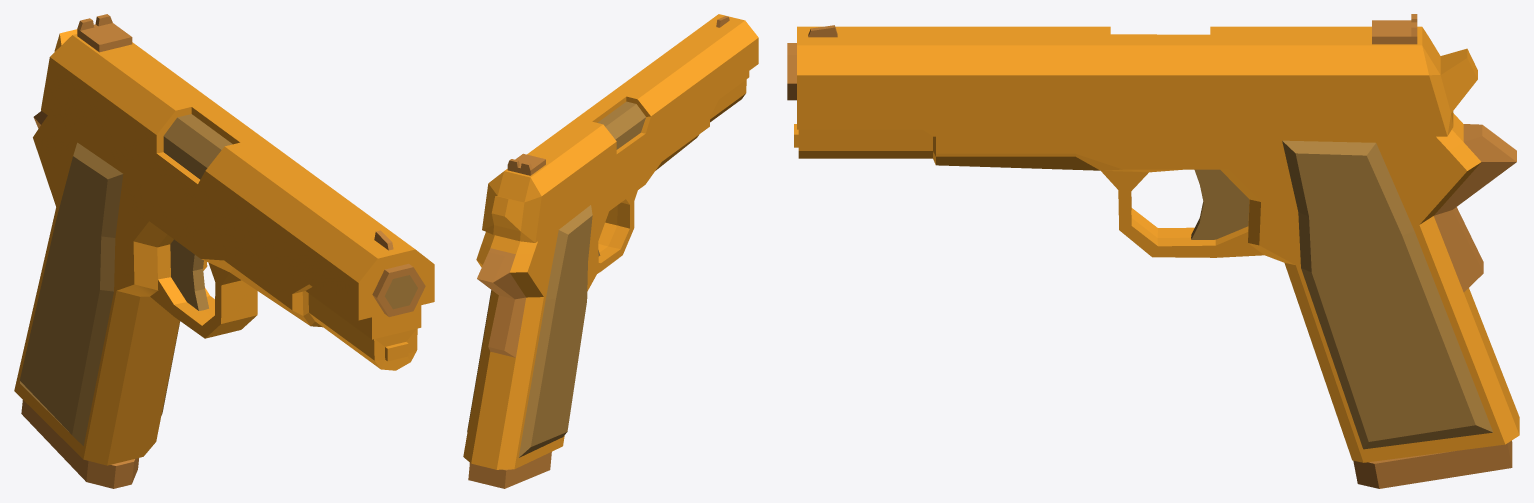
Rendered from SM_Prop_Pistol_01.fbx.
3 renders of one model, left to right at view 1: azimuth 30°, elevation 25°; view 2: azimuth 150°, elevation 25°; view 3: azimuth 270°, elevation 25°, orthographic. The views are drawn at different scales.
Parts seen in each view (by area): view 1: SM_Prop_Pistol_01, SM_Prop_Pistol_Slide_01, SM_Prop_Pistol_Mag_01, SM_Prop_Pistol_Trigger_01; view 2: SM_Prop_Pistol_01, SM_Prop_Pistol_Slide_01, SM_Prop_Pistol_Mag_01; view 3: SM_Prop_Pistol_01, SM_Prop_Pistol_Slide_01, SM_Prop_Pistol_Mag_01, SM_Prop_Pistol_Trigger_01.
Boxes of the visible parts, x1,y1,x2,y2 form: SM_Prop_Pistol_01: (14, 111, 425, 465); SM_Prop_Pistol_Slide_01: (41, 14, 434, 339); SM_Prop_Pistol_Mag_01: (21, 400, 138, 488); SM_Prop_Pistol_Trigger_01: (170, 239, 208, 310); SM_Prop_Pistol_01: (463, 79, 746, 469); SM_Prop_Pistol_Slide_01: (482, 14, 758, 242); SM_Prop_Pistol_Mag_01: (468, 452, 551, 488); SM_Prop_Pistol_01: (787, 43, 1519, 462); SM_Prop_Pistol_Slide_01: (797, 14, 1477, 136); SM_Prop_Pistol_Mag_01: (1353, 440, 1512, 488); SM_Prop_Pistol_Trigger_01: (1191, 169, 1249, 239).
Size of the model in its own units: 4.29 by 20.28 by 29.35.
